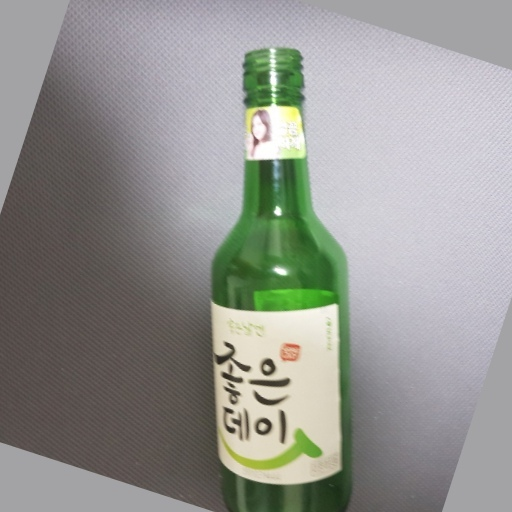Glass_0: (201, 44, 354, 512)
